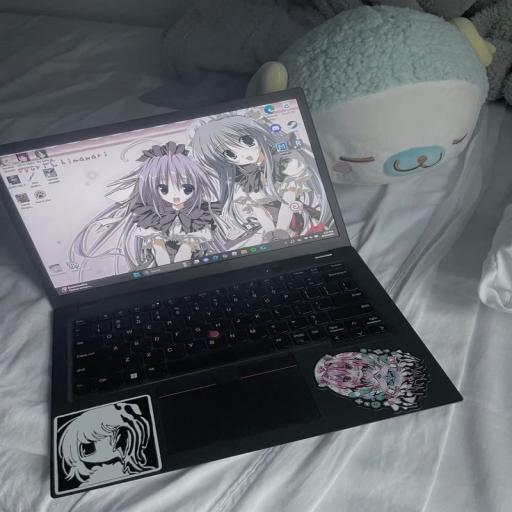glass_wall: (0, 90, 461, 496)
person: (0, 104, 511, 511)
